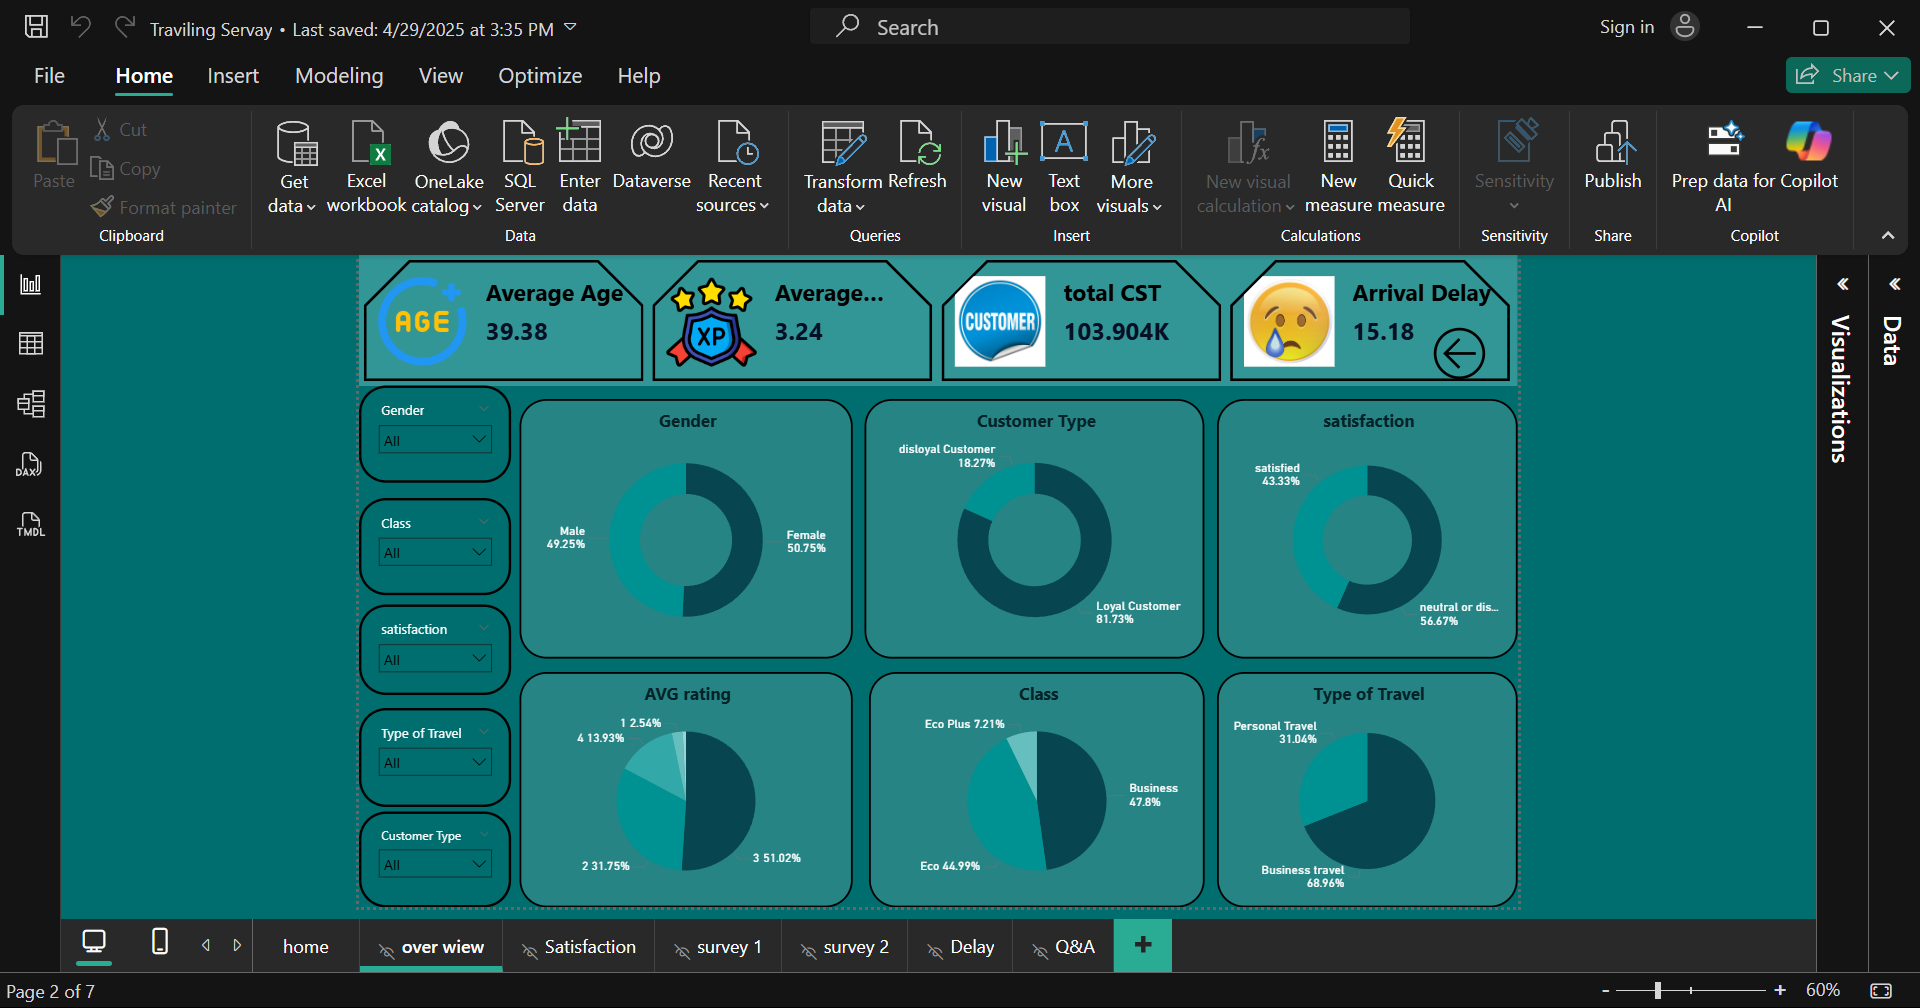

This screenshot's page, from the dashboard's own definition file:
{"tool":"powerbi","page":{"name":"over wiew","canvas":[1280,720],"ordinal":1},"visuals":[{"type":"cardVisual","fields":{"Data":["Avg(train.Age)","Avg(train.AVG rating)","Count(train.id)","Avg(train.Arrival Delay in Minutes)"]},"box":[0,0,1279.5,144.9],"z":0},{"type":"donutChart","title":"Gender","fields":{"Category":["train.Gender"],"Y":["CountNonNull(train.Gender)"]},"box":[177.7,159,367.8,286.8],"z":1000},{"type":"donutChart","title":"Customer Type","fields":{"Category":["train.Customer Type"],"Y":["CountNonNull(train.Customer Type)"]},"box":[557.9,159,375.6,286.8],"z":2000},{"type":"donutChart","title":"satisfaction","fields":{"Category":["train.satisfaction"],"Y":["CountNonNull(train.satisfaction)"]},"box":[947.5,159,331.9,286.8],"z":3000},{"type":"pieChart","title":"Type of Travel","fields":{"Category":["train.Type of Travel"],"Y":["CountNonNull(train.Type of Travel)"]},"box":[947.5,459.7,331.9,260.3],"z":4000},{"type":"slicer","fields":{"Values":["train.Gender"]},"box":[0,144.9,168.3,107.5],"z":5000},{"type":"slicer","fields":{"Values":["train.Type of Travel"]},"box":[0,500.3,168.3,109.1],"z":6000},{"type":"slicer","fields":{"Values":["train.Class"]},"box":[0,268.1,168.3,107.5],"z":7000},{"type":"slicer","fields":{"Values":["train.Customer Type"]},"box":[0,614,168.3,106],"z":8000},{"type":"pieChart","title":"Class","fields":{"Category":["train.Class"],"Y":["CountNonNull(train.Class)"]},"box":[562.6,459.7,370.9,260.3],"z":9000},{"type":"pieChart","title":"AVG rating","fields":{"Category":["train.AVG rating (groups)"],"Y":["CountNonNull(train.AVG rating)"]},"box":[177.7,459.7,367.8,260.3],"z":10000},{"type":"slicer","fields":{"Values":["train.satisfaction"]},"box":[0,386.5,168.3,99.7],"z":11000},{"type":"actionButton","box":[1179.7,73.2,99.7,71.7],"z":12000}]}

Visuals, with their boxes on the page's 1280x720 design canvas (x1, y1, x2, y2). These are canvas units, not pixel positions in the 1920x1008 screenshot, which may show the page scaled, cropped or inside an application window:
cardVisual - Avg(train.Age) x Avg(train.AVG rating): <bbox>0, 0, 1280, 145</bbox>
"Gender" donutChart: <bbox>178, 159, 546, 446</bbox>
"Customer Type" donutChart: <bbox>558, 159, 934, 446</bbox>
"satisfaction" donutChart: <bbox>948, 159, 1279, 446</bbox>
"Type of Travel" pieChart: <bbox>948, 460, 1279, 720</bbox>
slicer - train.Gender: <bbox>0, 145, 168, 252</bbox>
slicer - train.Type of Travel: <bbox>0, 500, 168, 609</bbox>
slicer - train.Class: <bbox>0, 268, 168, 376</bbox>
slicer - train.Customer Type: <bbox>0, 614, 168, 720</bbox>
"Class" pieChart: <bbox>563, 460, 934, 720</bbox>
"AVG rating" pieChart: <bbox>178, 460, 546, 720</bbox>
slicer - train.satisfaction: <bbox>0, 386, 168, 486</bbox>
actionButton: <bbox>1180, 73, 1279, 145</bbox>
